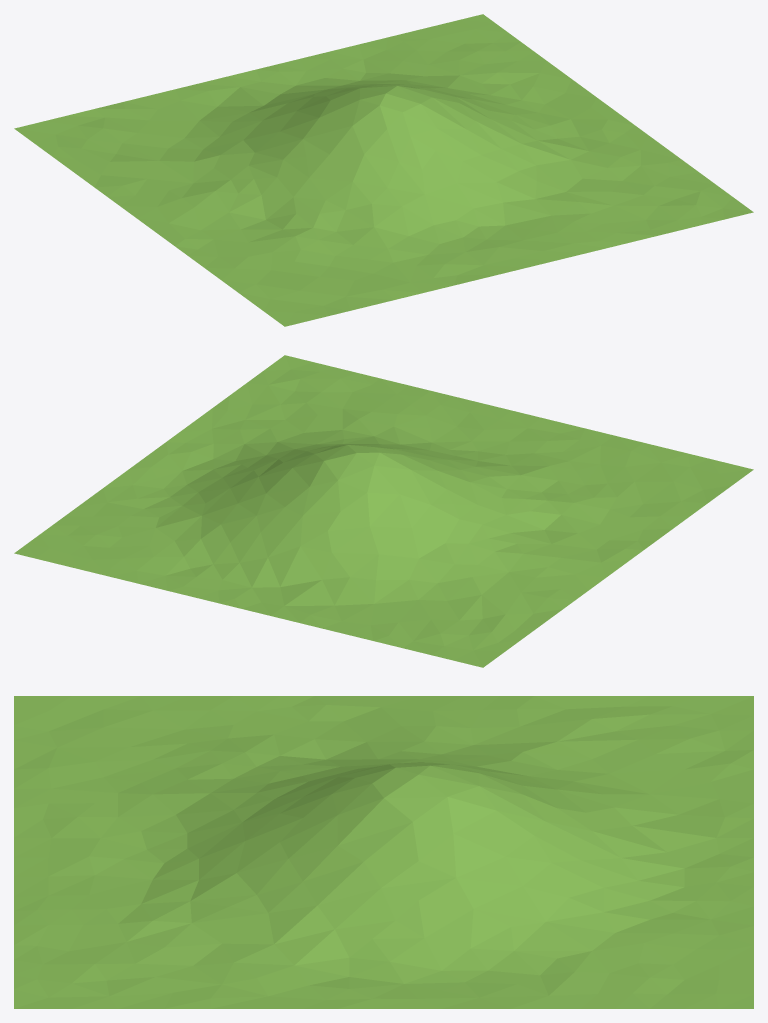
Rendered from MT_Terrain_M_a_13_LOD.fbx.
3 views of the same model, one above another, from view 1: azimuth 30°, elevation 25°; view 2: azimuth 150°, elevation 25°; view 3: azimuth 270°, elevation 25° (orthographic). The views are drawn at different scales.
Visible parts, largest first — view 1: MT_Terrain_M_a_13_LOD0; view 2: MT_Terrain_M_a_13_LOD0; view 3: MT_Terrain_M_a_13_LOD0.
Part boxes in pixels (x1,y1,x2,y2): MT_Terrain_M_a_13_LOD0: (14,14,753,326); MT_Terrain_M_a_13_LOD0: (14,355,753,667); MT_Terrain_M_a_13_LOD0: (14,696,753,1008).
Size of what is drawn, in the model's own units: 5000 by 674 by 5000.
